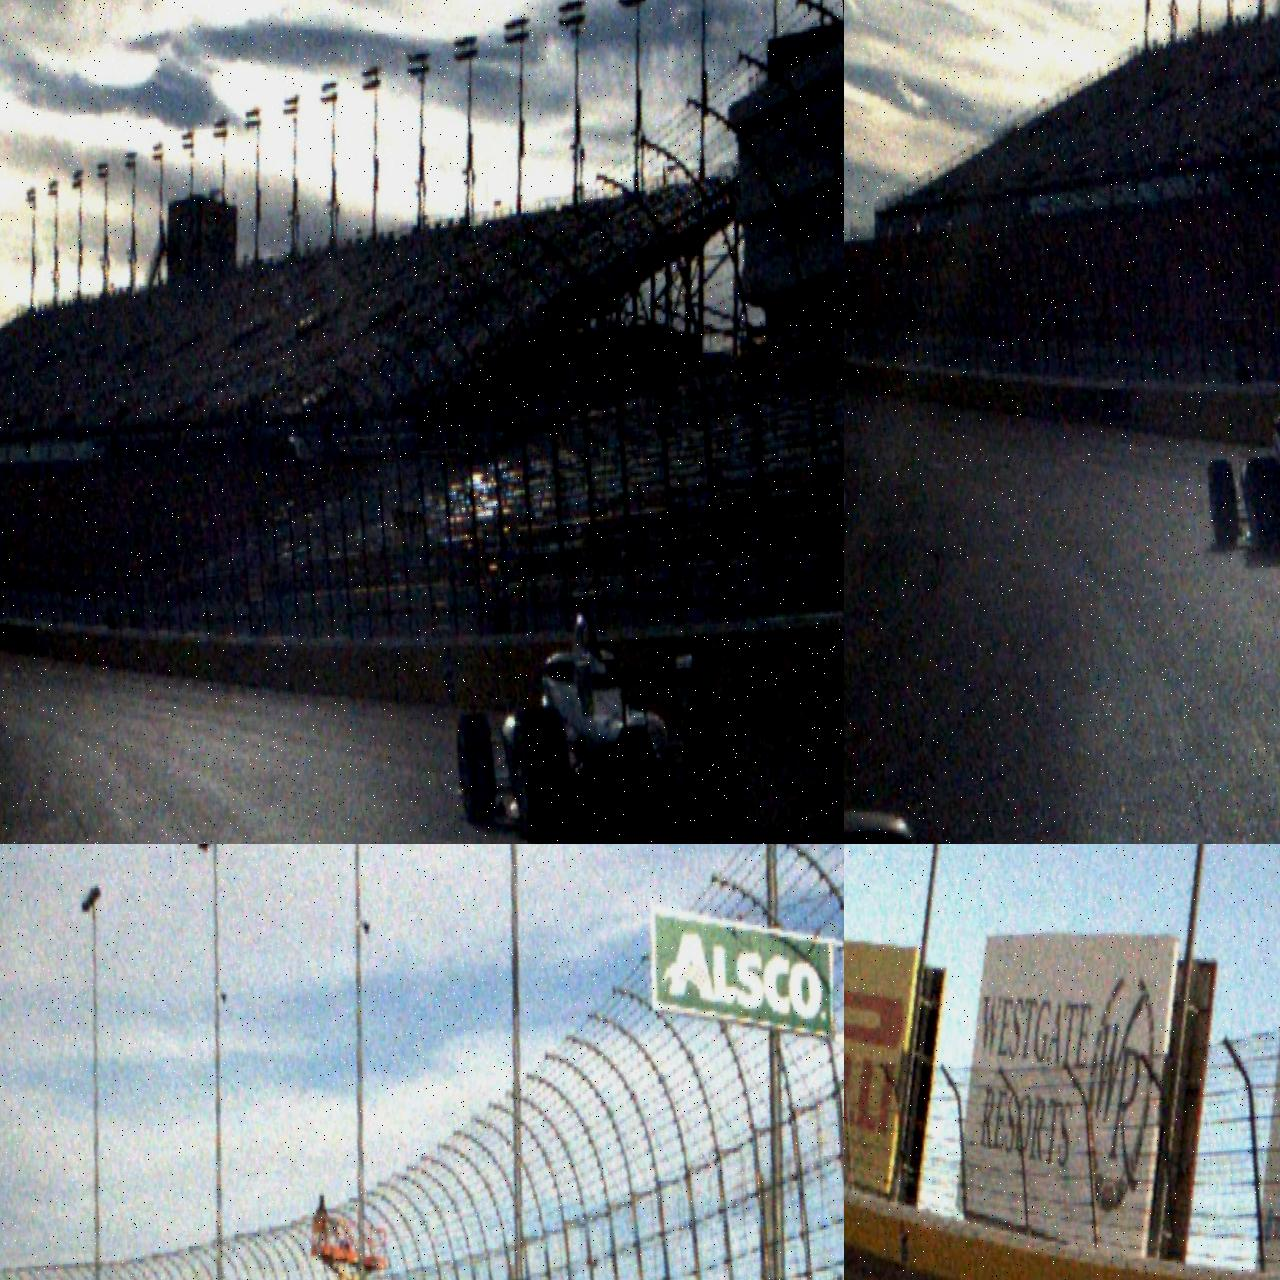AV: (437, 578, 749, 844), (1200, 358, 1280, 571)
Wheel: (679, 692, 749, 840), (511, 704, 572, 844), (455, 712, 499, 830), (1242, 452, 1280, 561), (1205, 456, 1240, 552)
